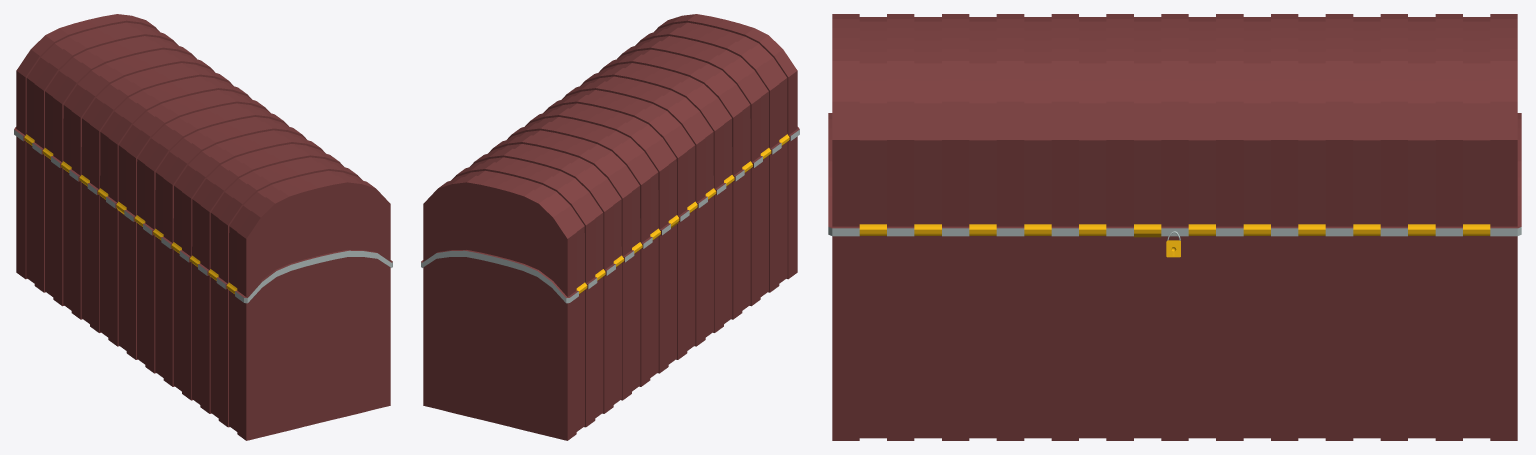
The model's file is Tesoro.fbx.
3 views of the same model, side by side, from view 1: azimuth 30°, elevation 25°; view 2: azimuth 150°, elevation 25°; view 3: azimuth 270°, elevation 25° (orthographic). The views are drawn at different scales.
Visible parts, largest first — view 1: Cube; view 2: Cube; view 3: Cube.
Boxes of the visible parts, x1,y1,x2,y2 form: Cube: (14,14,392,440); Cube: (421,14,799,440); Cube: (828,14,1521,440).
Size of the model in its own units: 113 by 163 by 292.
